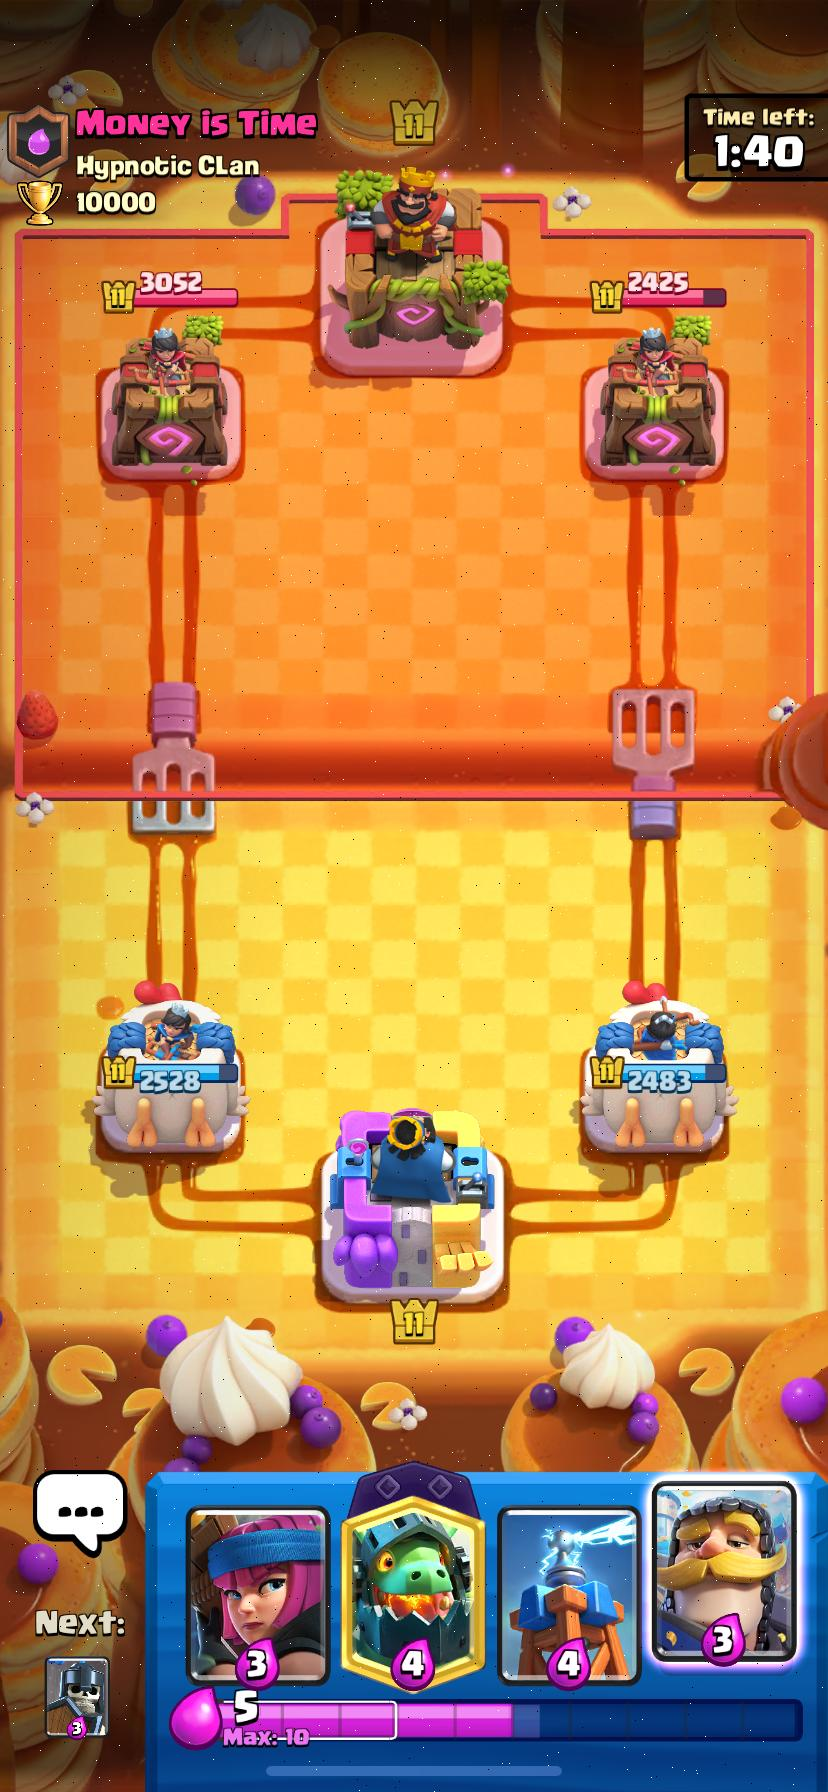EKingTower: (331, 169, 509, 351)
EnemyPrincessTower: (101, 318, 239, 481), (600, 328, 715, 473)
OwnKingTower: (329, 1109, 493, 1301)
OwnPrincessTower: (580, 983, 737, 1153), (93, 983, 248, 1152)
